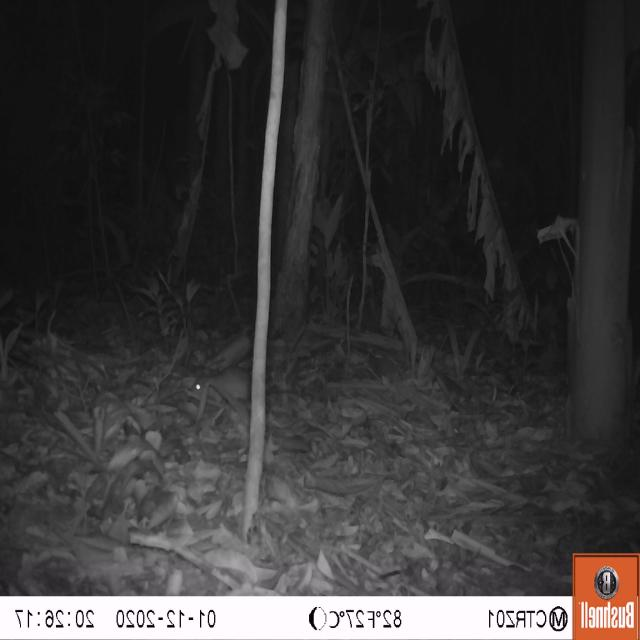Rodent: (173, 358, 260, 416)
